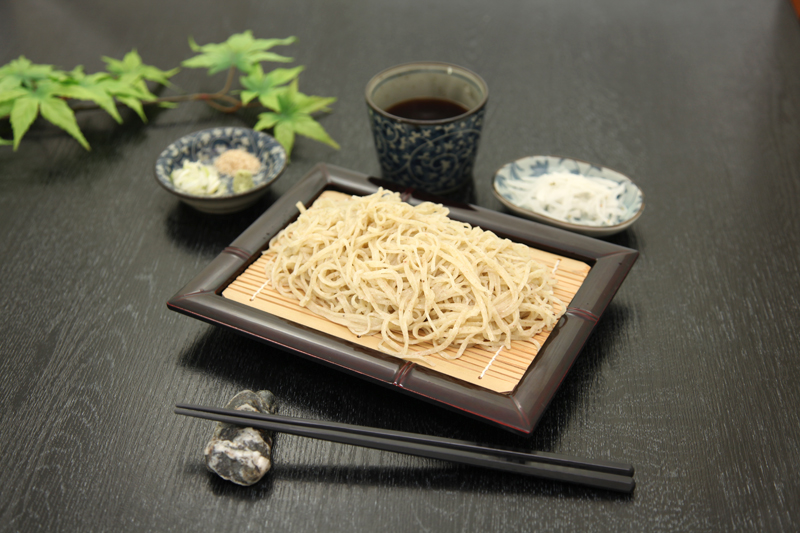Soba: (273, 187, 583, 348)
